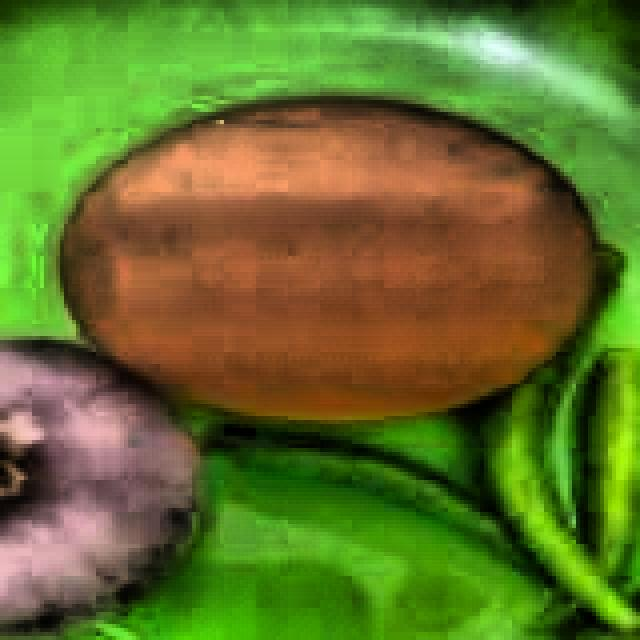egg: (52, 92, 612, 426)
